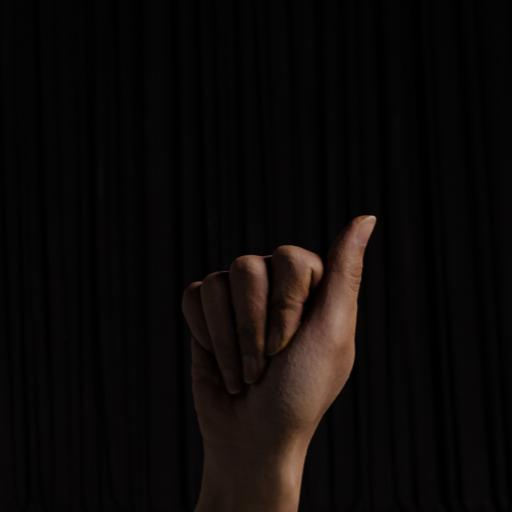A: (167, 208, 388, 434)
